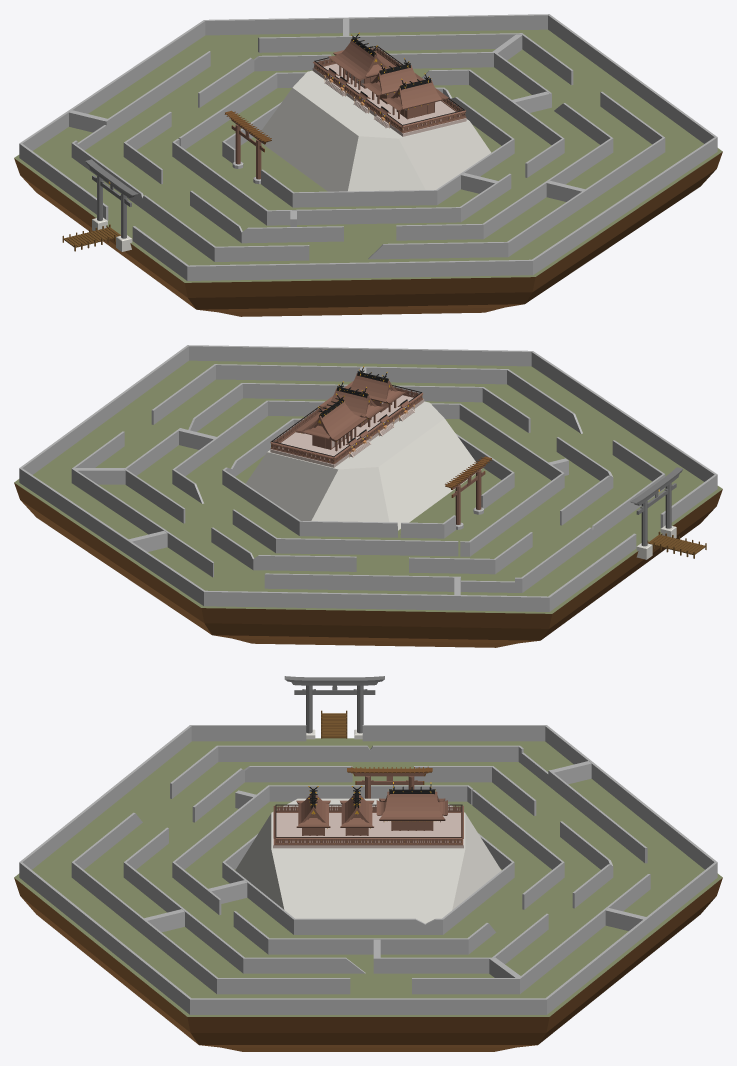
The model's file is 07level_draft.fbx.
3 renders of one model, top to bottom at view 1: azimuth 30°, elevation 25°; view 2: azimuth 150°, elevation 25°; view 3: azimuth 270°, elevation 25°, orthographic. The views are drawn at different scales.
Visible parts, largest first — view 1: Plane.003, Wall.004, Wall, Plane.004, Wall.001, Wall.002, 07_Kumano_Hongu_Taisha, Wall.003, Torii, Torii.003, WoodenTrestle.001, ADD (+3 smaller); view 2: Plane.003, Wall.004, Wall, Plane.004, Wall.001, Wall.002, 07_Kumano_Hongu_Taisha, Wall.003, Torii, Torii.003, WoodenTrestle.001, ADD.003 (+2 smaller); view 3: Plane.003, Wall.004, Wall, Plane.004, Wall.001, Wall.002, 07_Kumano_Hongu_Taisha, Wall.003, Torii, Torii.003, WoodenTrestle.001, ADD.005 (+3 smaller).
Part boxes in pixels (x1,y1,x2,y2): Plane.003: [14, 29, 722, 316]; Wall.004: [19, 14, 717, 280]; Wall: [71, 33, 665, 261]; Plane.004: [255, 70, 491, 191]; Wall.001: [123, 52, 613, 243]; Wall.002: [172, 69, 564, 225]; 07_Kumano_Hongu_Taisha: [312, 32, 466, 136]; Wall.003: [222, 87, 514, 207]; Torii: [85, 159, 138, 251]; Torii.003: [224, 110, 271, 184]; WoodenTrestle.001: [62, 224, 120, 251]; ADD: [69, 110, 107, 132]; Plane.003: [14, 360, 722, 647]; Wall.004: [19, 345, 717, 611]; Wall: [71, 364, 665, 592]; Plane.004: [245, 401, 481, 530]; Wall.001: [124, 383, 613, 574]; Wall.002: [172, 400, 564, 556]; 07_Kumano_Hongu_Taisha: [270, 366, 424, 467]; Wall.003: [222, 418, 514, 538]; Torii: [630, 467, 682, 559]; Torii.003: [445, 456, 491, 529]; WoodenTrestle.001: [647, 531, 706, 558]; ADD.003: [74, 468, 125, 484]; Plane.003: [14, 738, 722, 1051]; Wall.004: [19, 725, 717, 1014]; Wall: [71, 745, 650, 994]; Plane.004: [235, 798, 501, 923]; Wall.001: [123, 766, 613, 973]; Wall.002: [172, 785, 564, 954]; 07_Kumano_Hongu_Taisha: [273, 782, 463, 848]; Wall.003: [222, 833, 514, 934]; Torii: [284, 676, 384, 739]; Torii.003: [347, 766, 432, 798]; WoodenTrestle.001: [321, 710, 347, 738]; ADD.005: [605, 908, 645, 930].
Bounding box in the file's own units: 20939 × 5775 × 20712.
